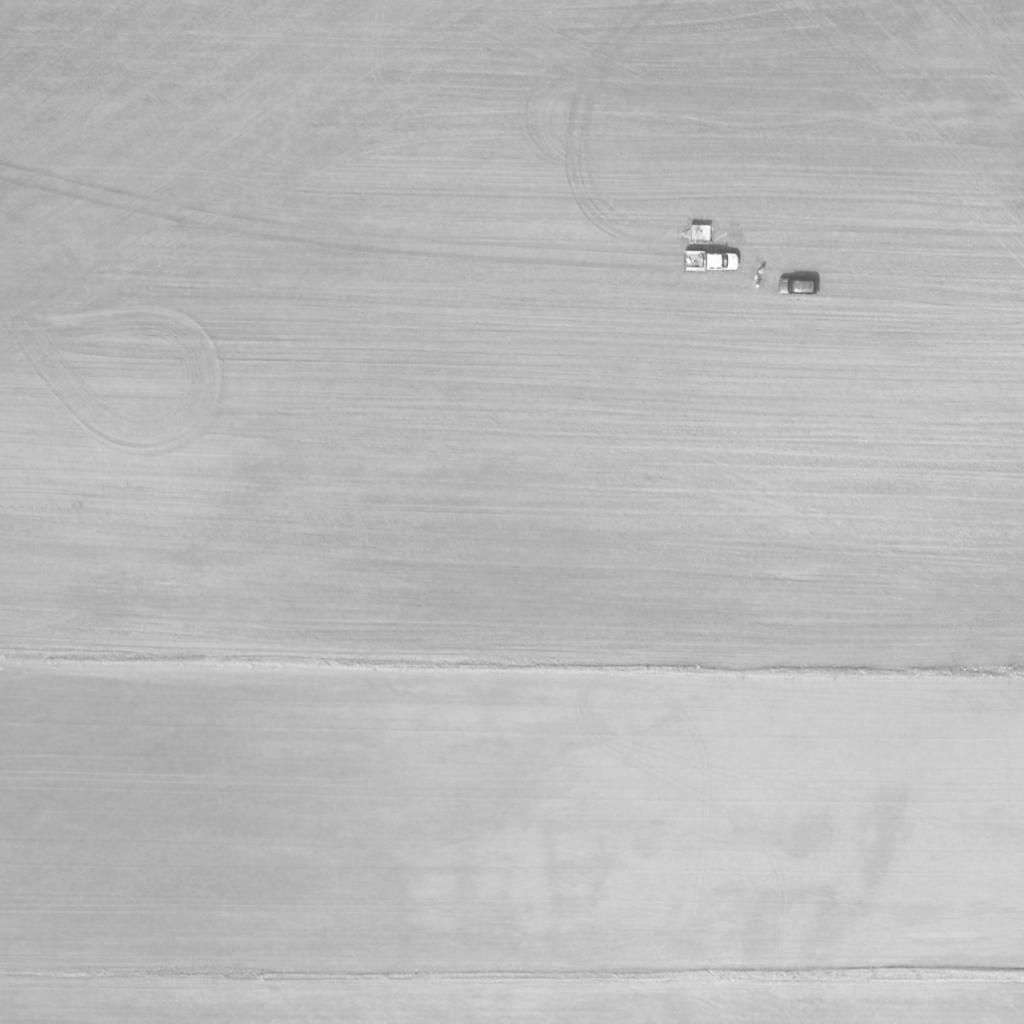vehicle: (684, 251, 740, 273), (777, 276, 819, 296)
